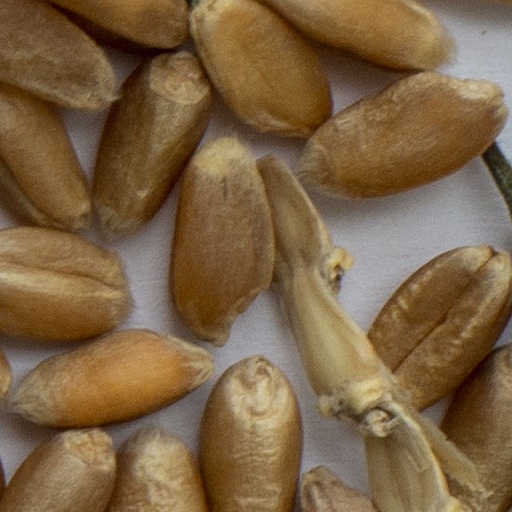Peel-poly: (264, 164, 479, 511)
